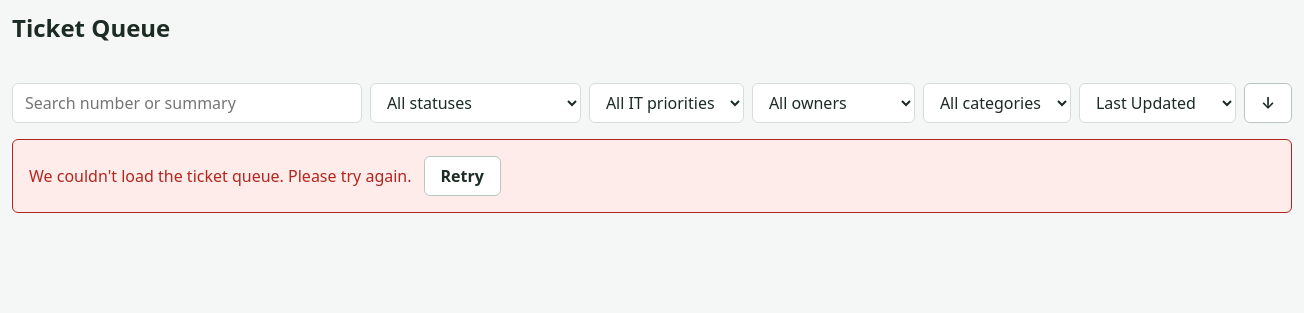
Test: IT Staff Ticket Queue › UI-20: a failed load shows a safe message and a working Retry
Expected: the message shows "couldn't load the ticket queue", [29,165,412,187]
Click the button "Retry": (462, 176) [424,156,501,196]
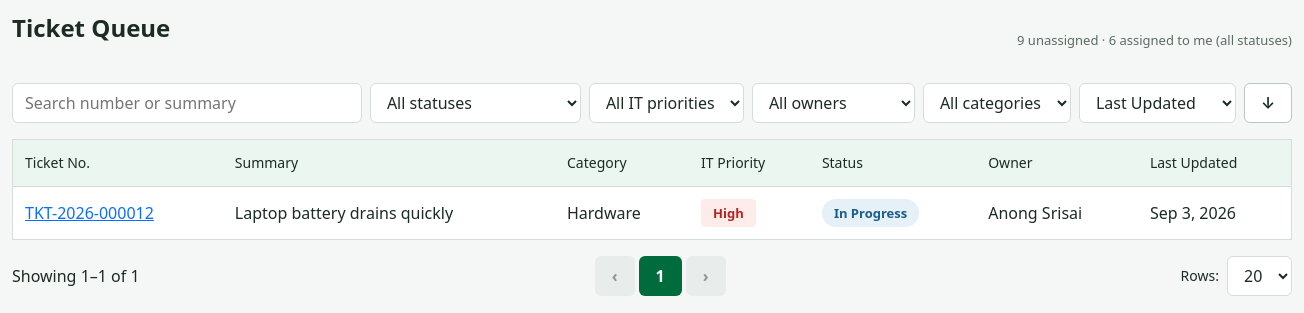
Result: the link "TKT-2026-000012" is shown at [25,202,154,224]
